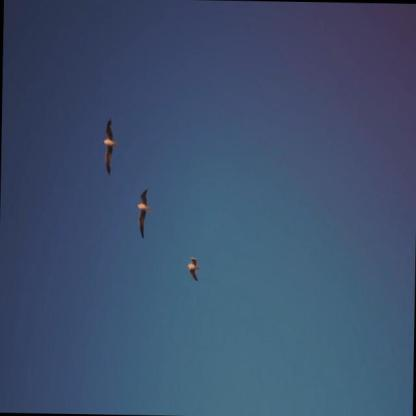bird: (102, 115, 120, 179), (134, 187, 155, 241), (184, 254, 201, 284)
